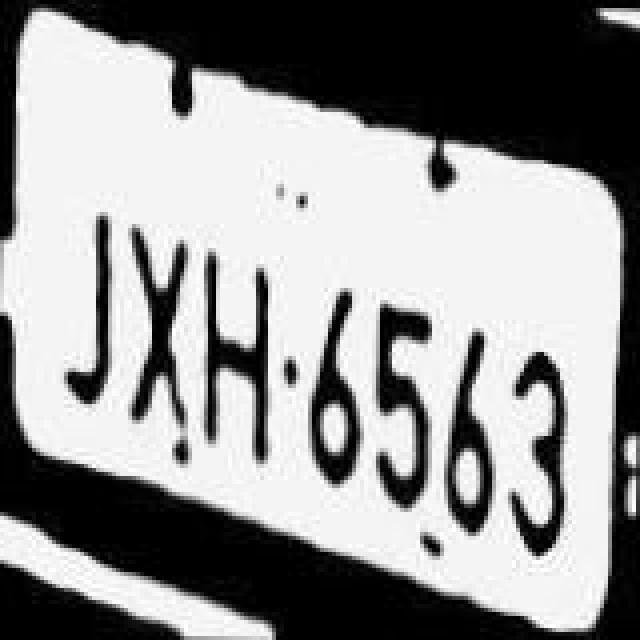3: (508, 334, 576, 562)
5: (374, 292, 438, 524)
6: (300, 274, 368, 498), (440, 320, 500, 536)
H: (200, 232, 280, 472)
J: (64, 200, 128, 424)
X: (124, 210, 196, 434)
